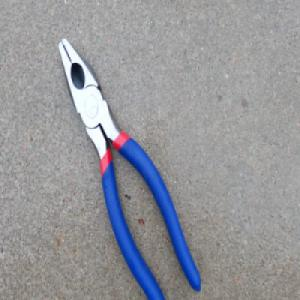Pliers: (57, 35, 204, 300)
